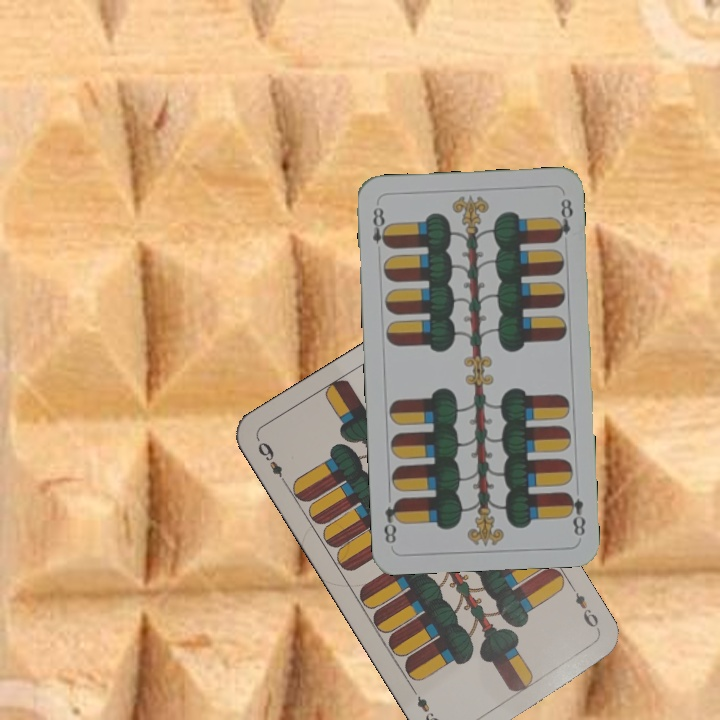E8: (562, 488, 588, 538), (368, 203, 392, 250)
E9: (253, 437, 291, 489), (567, 582, 603, 636)
